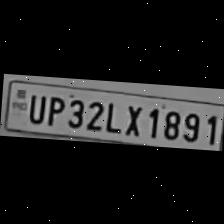1: (200, 111, 220, 147), (140, 104, 160, 139)
2: (82, 96, 104, 132)
3: (63, 94, 83, 128)
8: (158, 105, 181, 141)
9: (179, 108, 200, 143)
L: (100, 99, 121, 134)
P: (42, 93, 64, 127)
U: (22, 90, 44, 124)
X: (120, 102, 143, 137)
